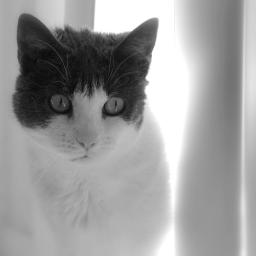catnose: (76, 136, 98, 151)
